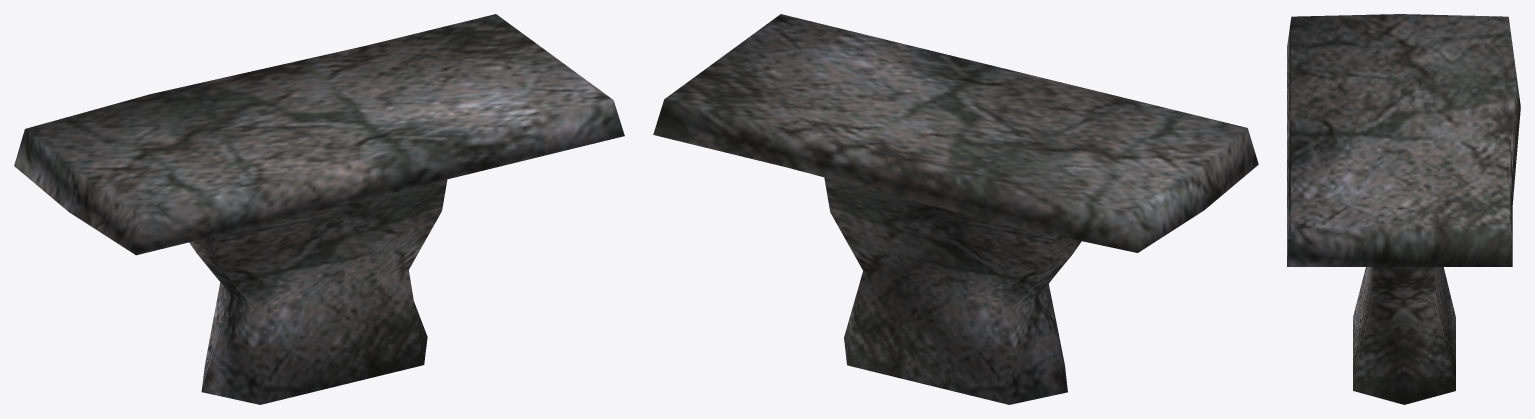
Rendered from Table_Stone.fbx.
The picture shows the model from 3 angles, left to right: view 1: azimuth 30°, elevation 25°; view 2: azimuth 150°, elevation 25°; view 3: azimuth 270°, elevation 25°; orthographic projection. The views are drawn at different scales.
Parts seen in each view (by area): view 1: Table_Stone; view 2: Table_Stone; view 3: Table_Stone.
Part boxes in pixels (x1,y1,x2,y2): Table_Stone: (14, 14, 624, 404); Table_Stone: (653, 14, 1258, 404); Table_Stone: (1287, 14, 1520, 404).
Size of the model in its own units: 202 by 98.22 by 89.61.
1 material, 1 textured.
